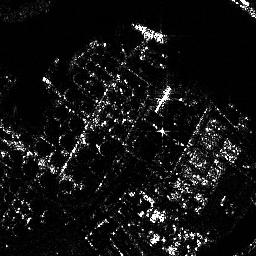ship: (130, 23, 168, 45)
